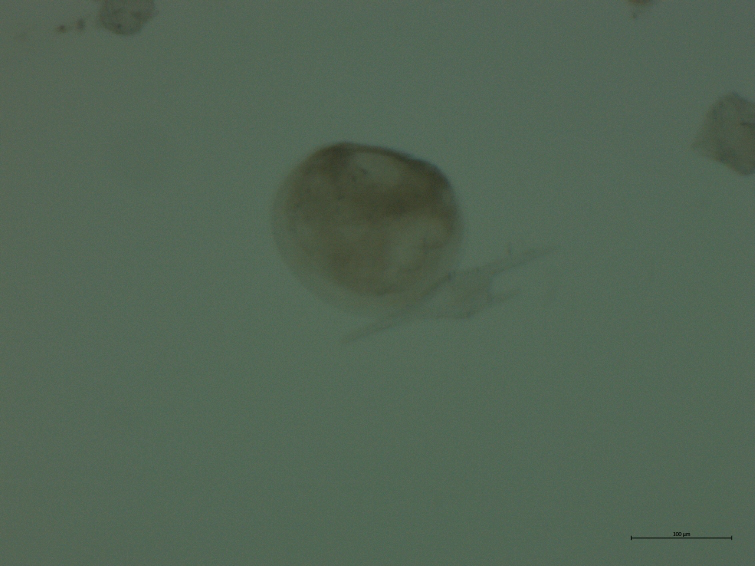oyster: (263, 135, 477, 329)
